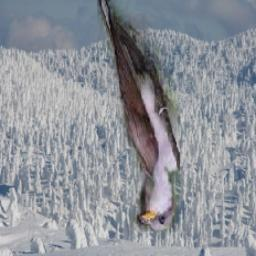Cuckoo: (98, 0, 181, 232)
